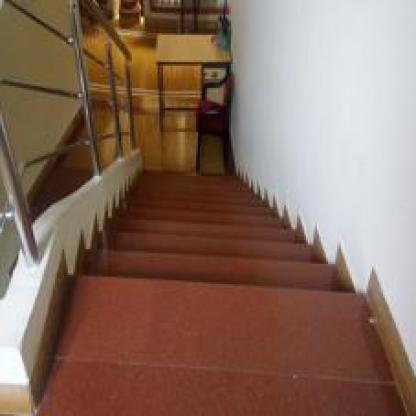stair_down: (78, 188, 376, 315)
